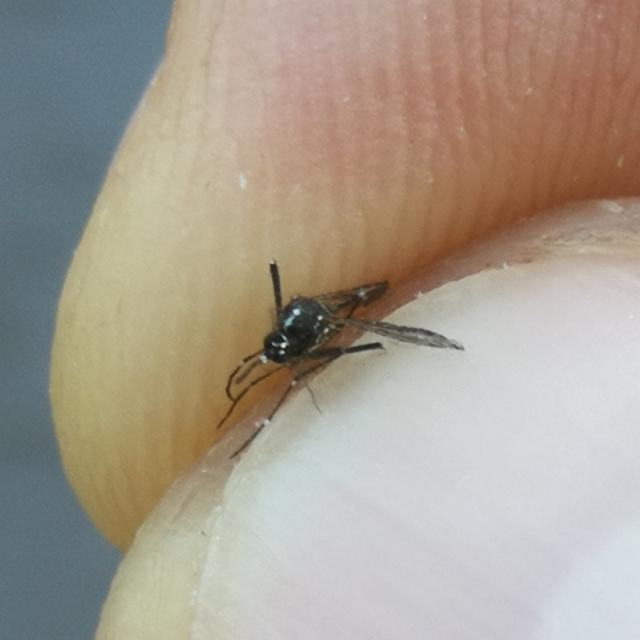albopictus: (215, 240, 459, 469)
